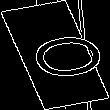O_E: (7, 27, 103, 83)
